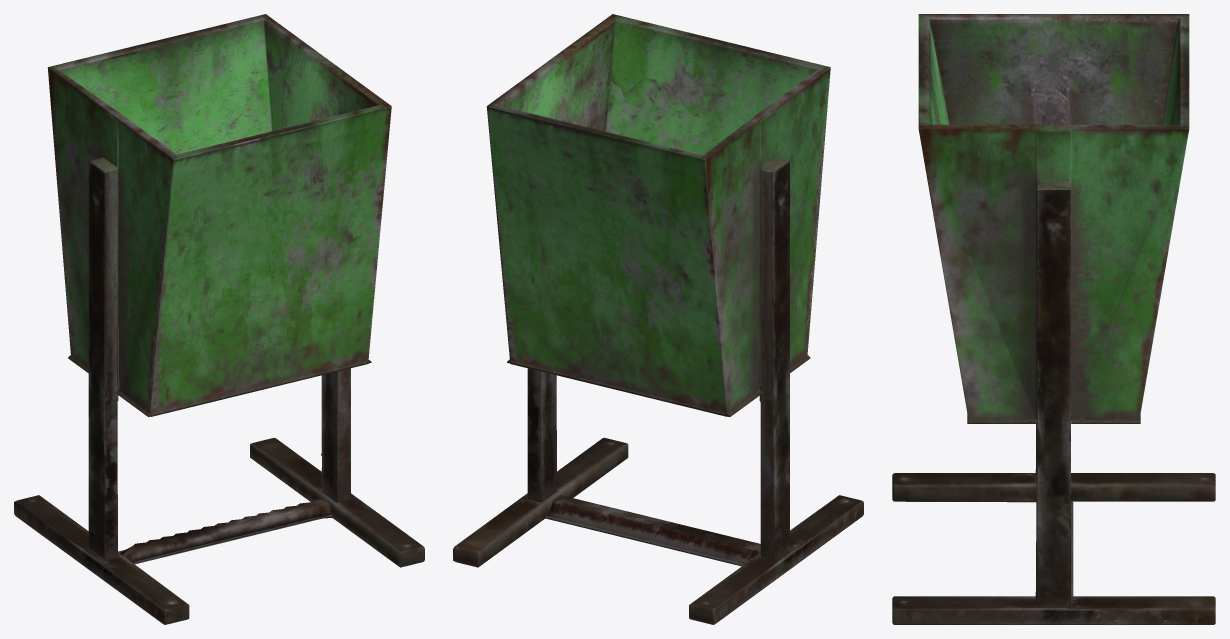
Rendered from green_metal_waste_bin.glb.
3 renders of one model, left to right at view 1: azimuth 30°, elevation 25°; view 2: azimuth 150°, elevation 25°; view 3: azimuth 270°, elevation 25°, orthographic. The views are drawn at different scales.
Bounding box in the file's own units: 1.15 × 1.9 × 1.15.
1 material, 1 textured.
